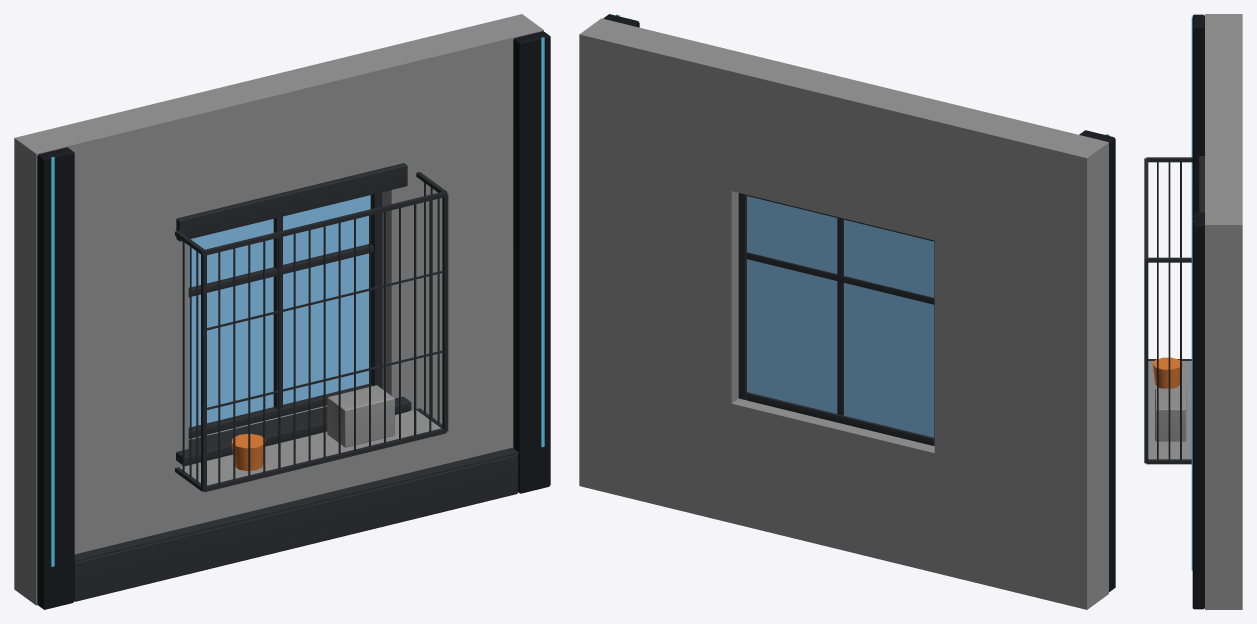
Rendered from Building_Facade_Panel_Window_Cage.fbx.
3 views of the same model, side by side, from view 1: azimuth 30°, elevation 25°; view 2: azimuth 150°, elevation 25°; view 3: azimuth 270°, elevation 25° (orthographic). The views are drawn at different scales.
Parts seen in each view (by area): view 1: Building_Facade_Panel_Window_Cage_LOD0; view 2: Building_Facade_Panel_Window_Cage_LOD0; view 3: Building_Facade_Panel_Window_Cage_LOD0.
Boxes of the visible parts, x1,y1,x2,y2 form: Building_Facade_Panel_Window_Cage_LOD0: (14,14,550,609); Building_Facade_Panel_Window_Cage_LOD0: (579,14,1115,609); Building_Facade_Panel_Window_Cage_LOD0: (1144,14,1242,609).
Size of what is drawn, in the model's own units: 4 by 3.4 by 0.785.
